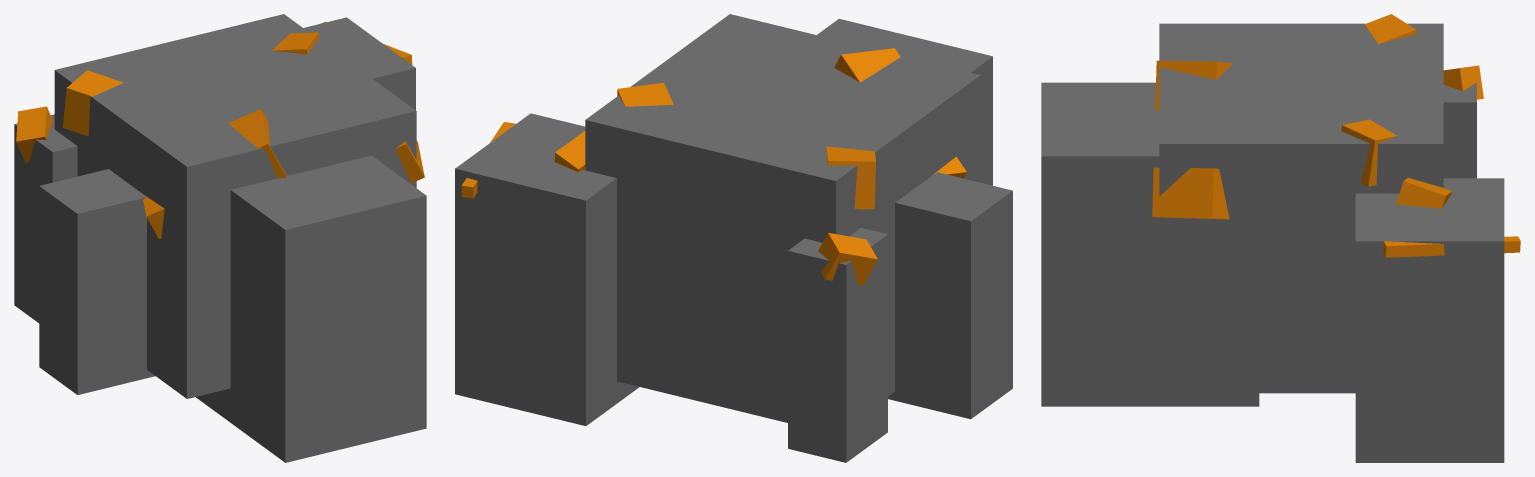
The model's file is ResourseSourse.fbx.
The picture shows the model from 3 angles, left to right: view 1: azimuth 30°, elevation 25°; view 2: azimuth 150°, elevation 25°; view 3: azimuth 270°, elevation 25°; orthographic projection. The views are drawn at different scales.
Parts seen in each view (by area): view 1: Cube; view 2: Cube; view 3: Cube.
Part boxes in pixels (x1,y1,x2,y2): Cube: [14, 14, 426, 462]; Cube: [455, 14, 1012, 462]; Cube: [1041, 14, 1520, 462].
Bounding box in the file's own units: 814 × 545 × 786.
